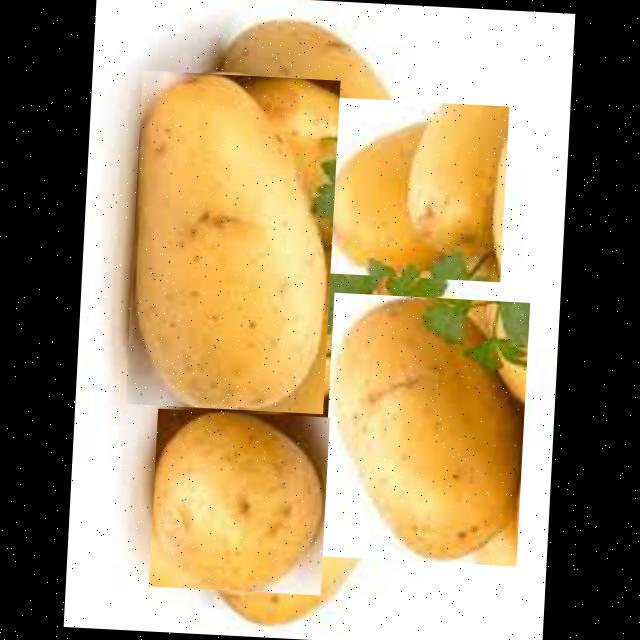Potato: (126, 70, 340, 413), (320, 292, 530, 566), (203, 16, 426, 253), (208, 400, 406, 631), (205, 215, 388, 418), (316, 96, 509, 281), (149, 408, 330, 594)
